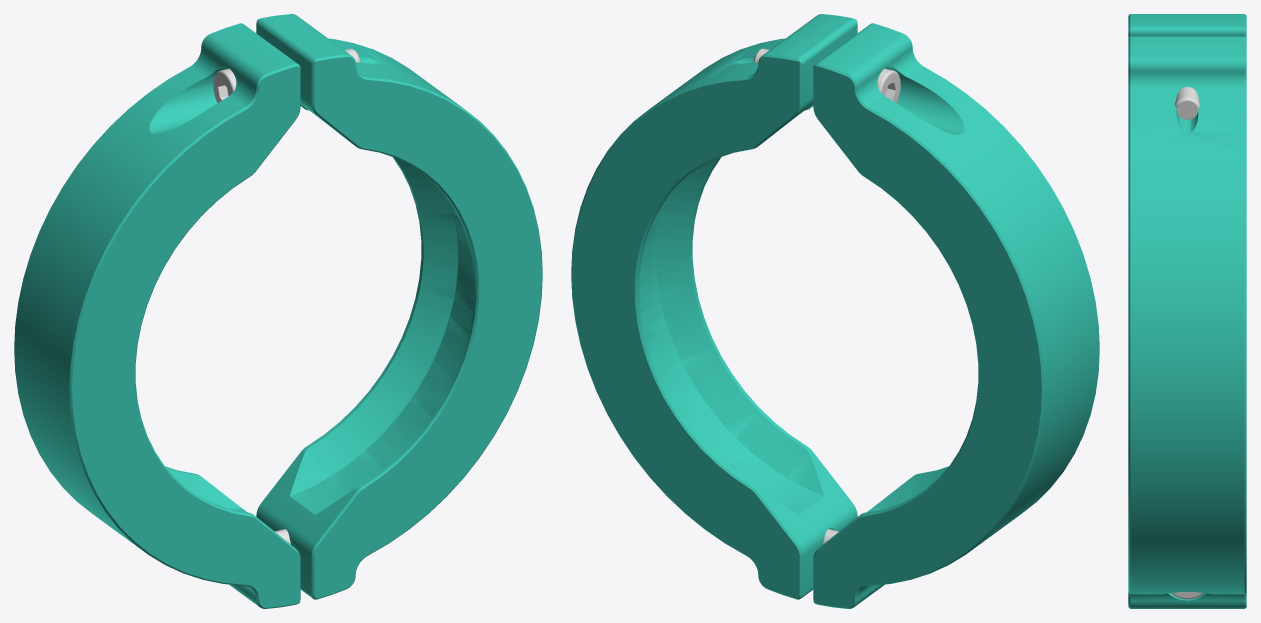
The picture shows the model from 3 angles, left to right: view 1: azimuth 30°, elevation 25°; view 2: azimuth 150°, elevation 25°; view 3: azimuth 270°, elevation 25°; orthographic projection. The views are drawn at different scales.
Parts seen in each view (by area): view 1: C86; view 2: C86; view 3: C86.
Boxes of the visible parts, bbox=[...] form: C86: bbox=[14, 14, 542, 608]; C86: bbox=[571, 14, 1099, 608]; C86: bbox=[1128, 14, 1246, 608].
Bounding box in the file's own units: 0.086 × 0.0939 × 0.018.
